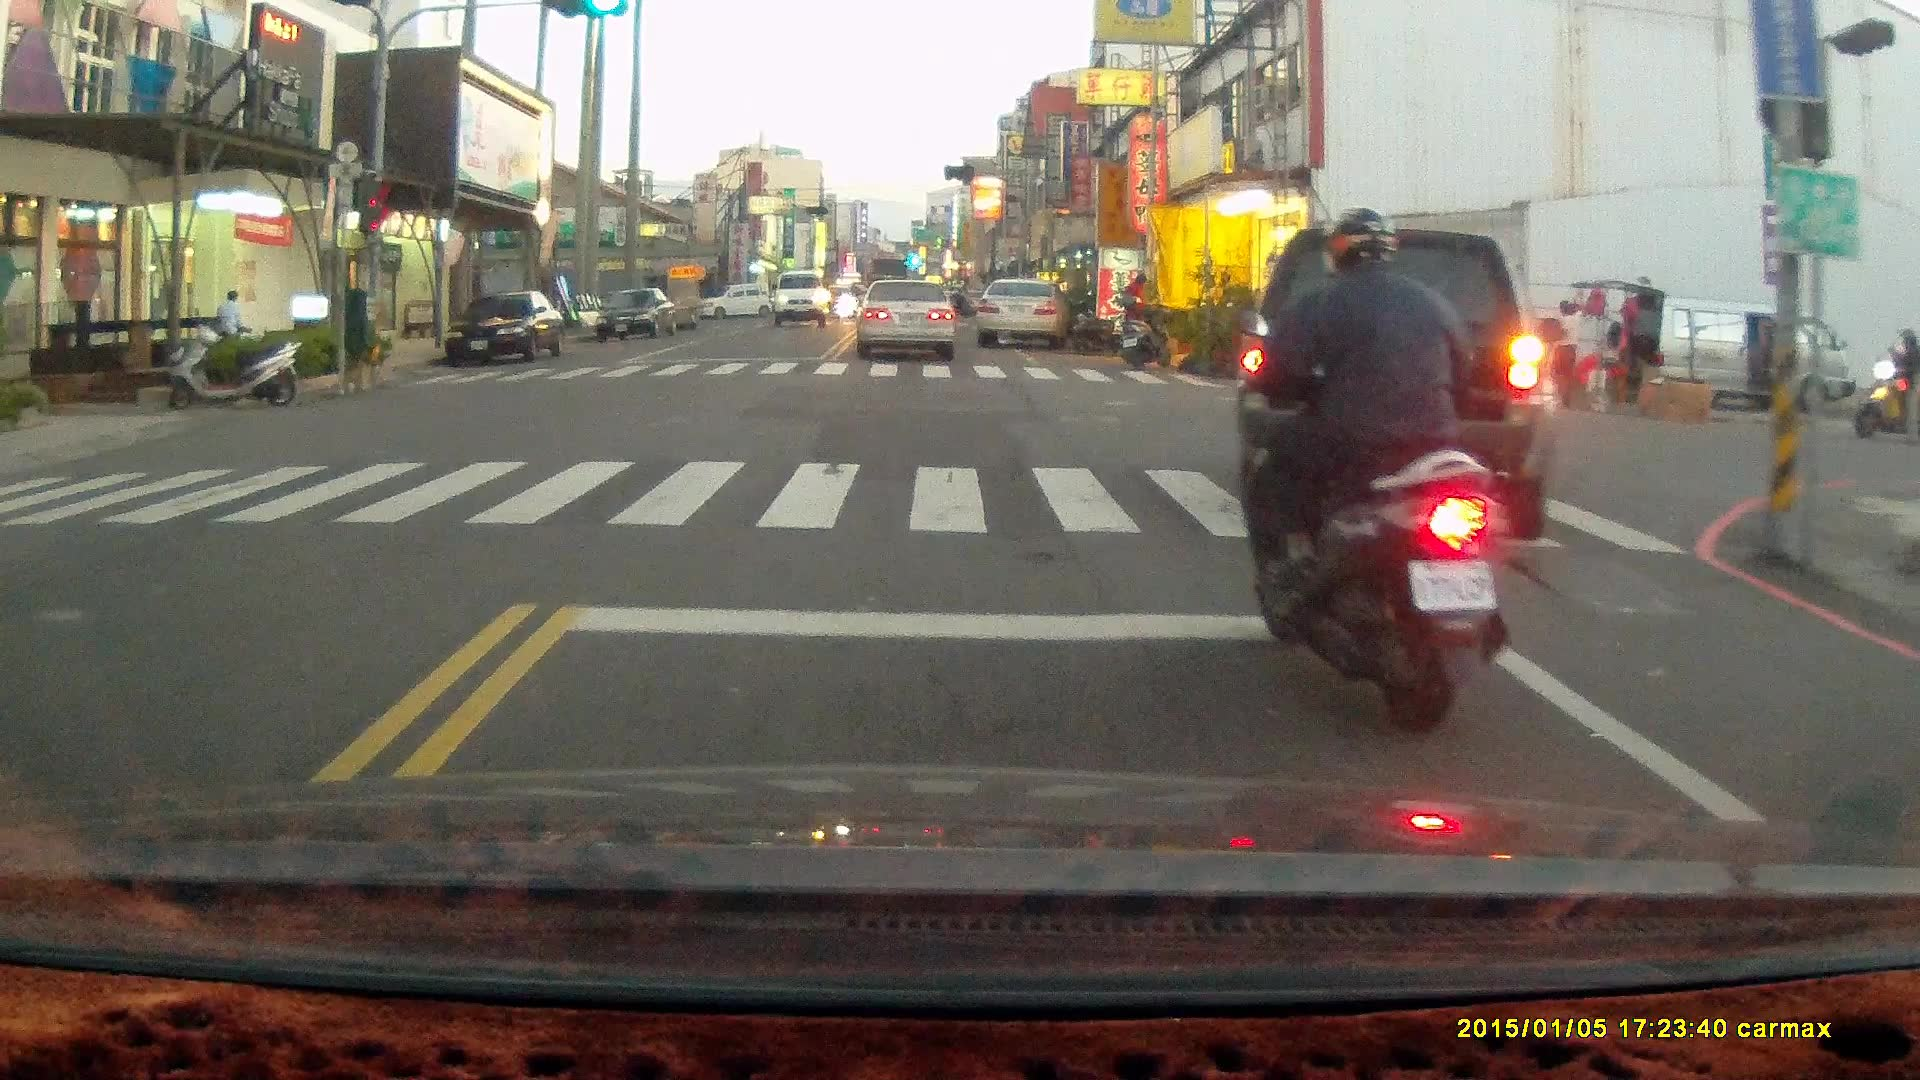pedestrian: (1548, 296, 1584, 413), (1113, 269, 1145, 359), (213, 287, 249, 352)
rider: (1229, 204, 1506, 740), (1848, 330, 1919, 437)
vehicle: (1231, 230, 1568, 540), (1605, 293, 1858, 417), (445, 290, 566, 371), (854, 279, 960, 359), (977, 275, 1068, 351), (595, 286, 678, 342), (772, 269, 829, 329)
